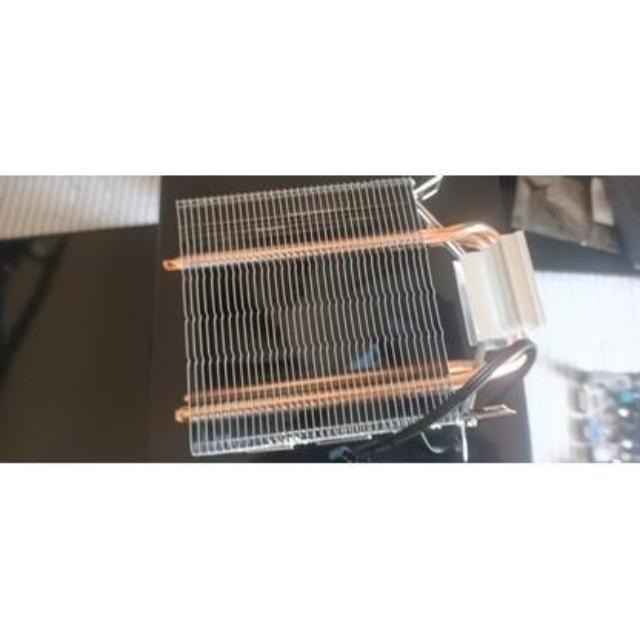CPU_Fan: (170, 175, 539, 473)
